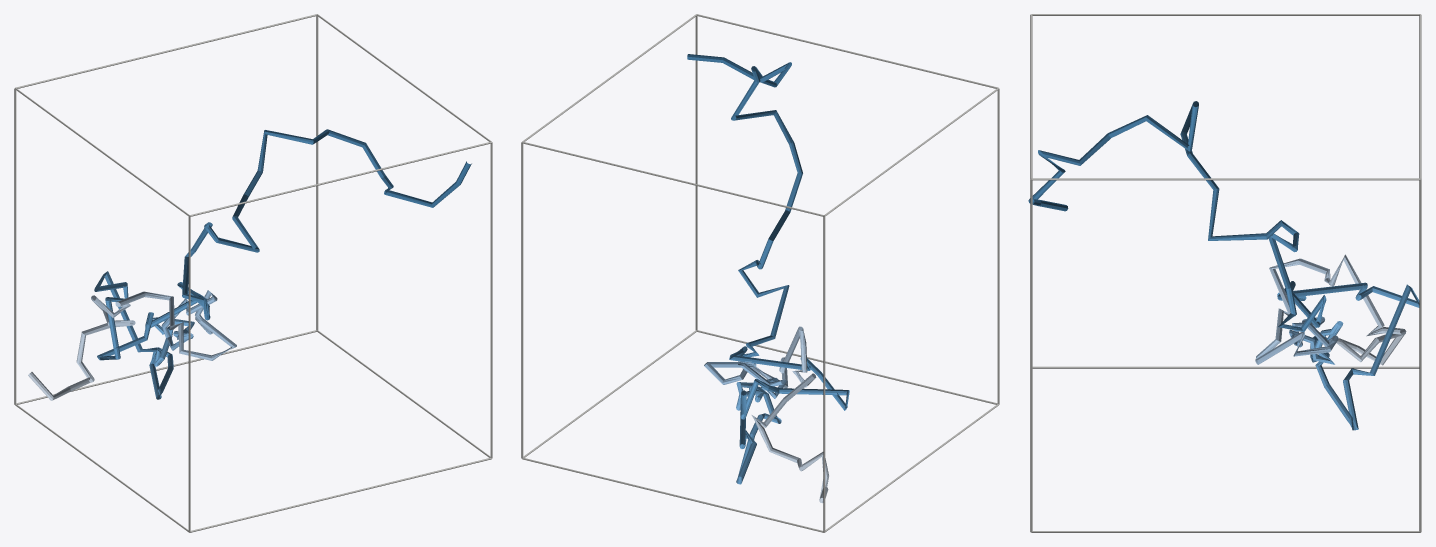
3 renders of one model, left to right at view 1: azimuth 30°, elevation 25°; view 2: azimuth 150°, elevation 25°; view 3: azimuth 270°, elevation 25°, orthographic. The views are drawn at different scales.
Visible parts, largest first — view 1: geometry_0, geometry_1; view 2: geometry_0, geometry_1; view 3: geometry_0, geometry_1.
Boxes of the visible parts, x1,y1,x2,y2 form: geometry_0: (28,129,471,400); geometry_1: (14,14,492,532); geometry_0: (687,54,849,503); geometry_1: (521,14,999,532); geometry_0: (1028,101,1419,430); geometry_1: (1030,14,1421,532).
Size of the model in its own units: 0.3016 by 0.3033 by 0.3032.
